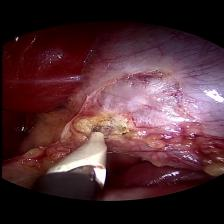Hook: (50, 124, 113, 186)
